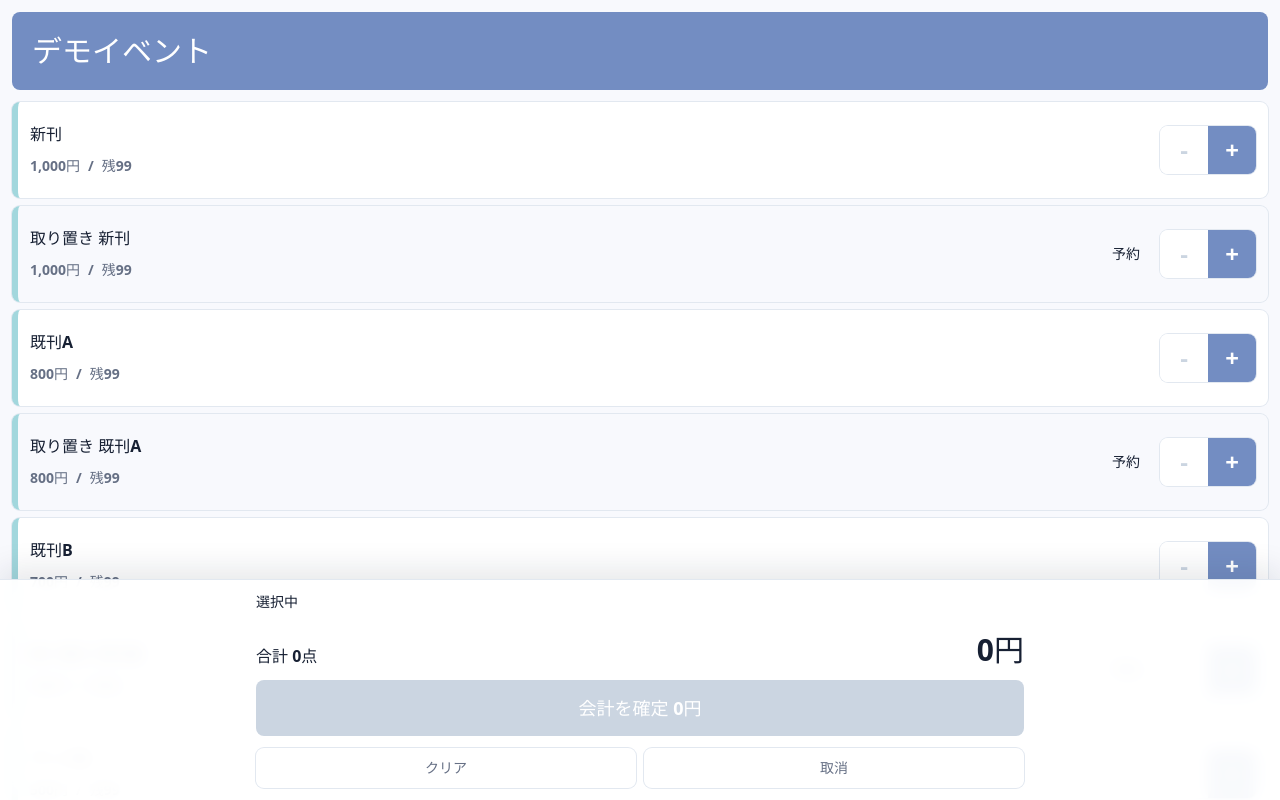
Test: CheckoutPage › shows compact 頒布物 cards and plus minus controls
What coordinates should you click on to do the following:
click the button with aria-label "新刊を追加"
I would click on:
 (46, 134)
Its box is [30,114,1152,186].
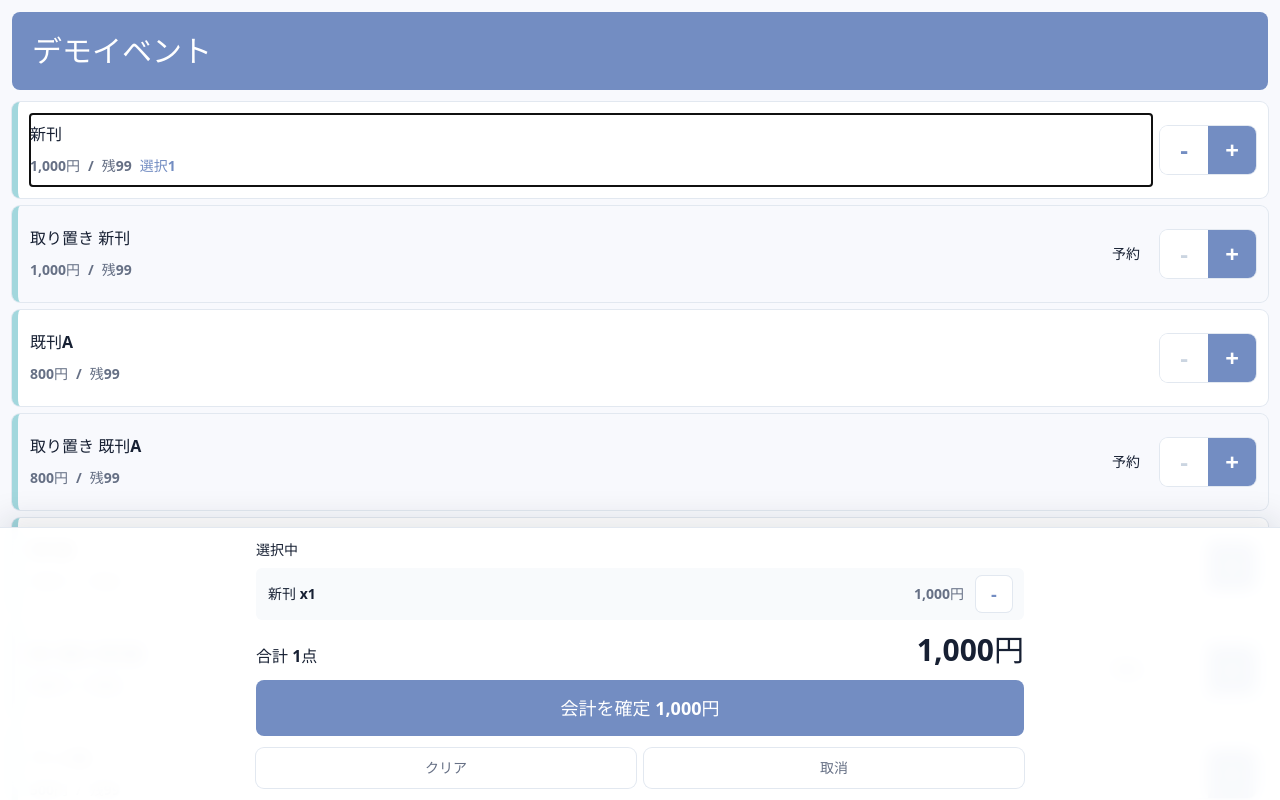
Expected: the text "新刊 x1" is shown, [268,584,316,603]
What coordinates should you click on to do the following:
click the button named "新刊を増やす"
I would click on:
 (1232, 150)
Its box is [1208,126,1256,174].
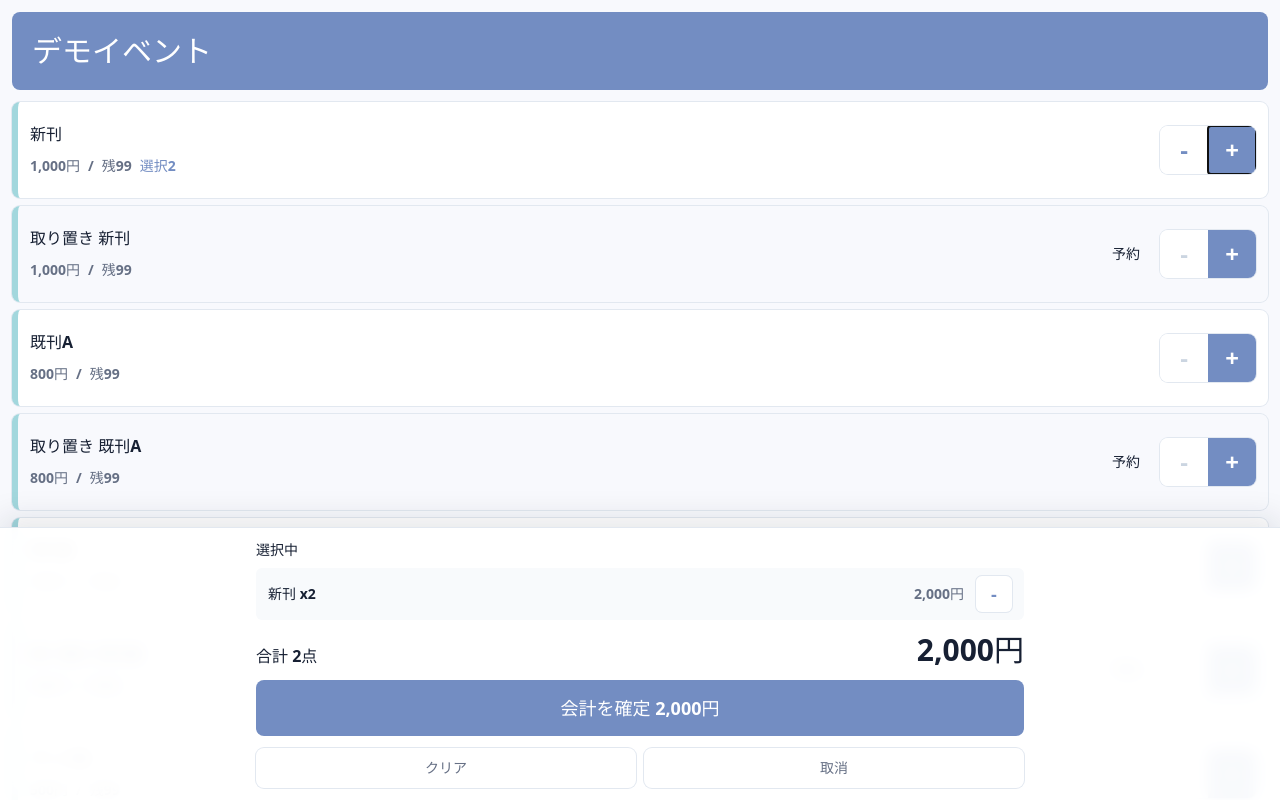
Expected: the text "新刊 x2" is shown, [268,584,316,603]
What coordinates should you click on to do the following:
click the button named "新刊を減らす"
I would click on:
 (1184, 150)
Its box is [1160,126,1208,174].
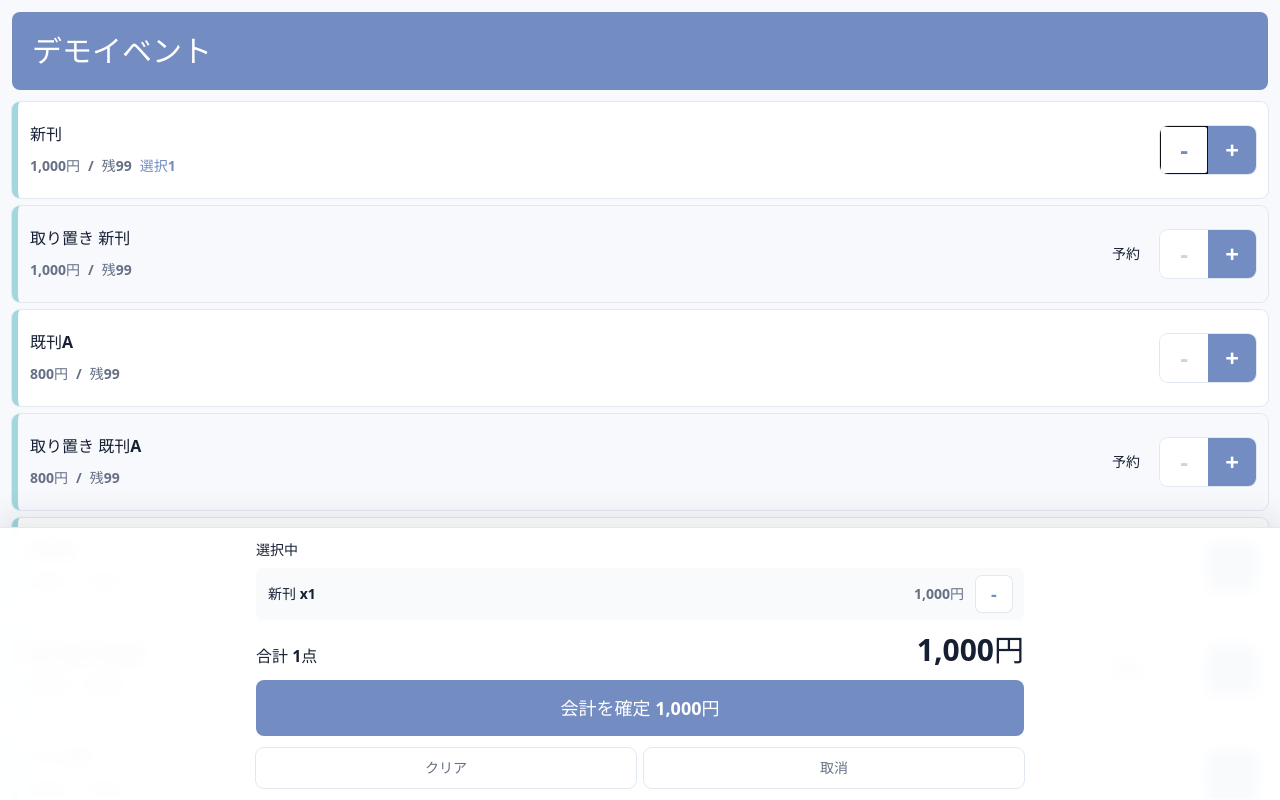
Expected: the text "新刊 x1" is shown, [268,584,316,603]
What coordinates should you click on to do the following:
click the button named "新刊を減らす"
I would click on:
 (1184, 150)
Its box is [1160,126,1208,174].
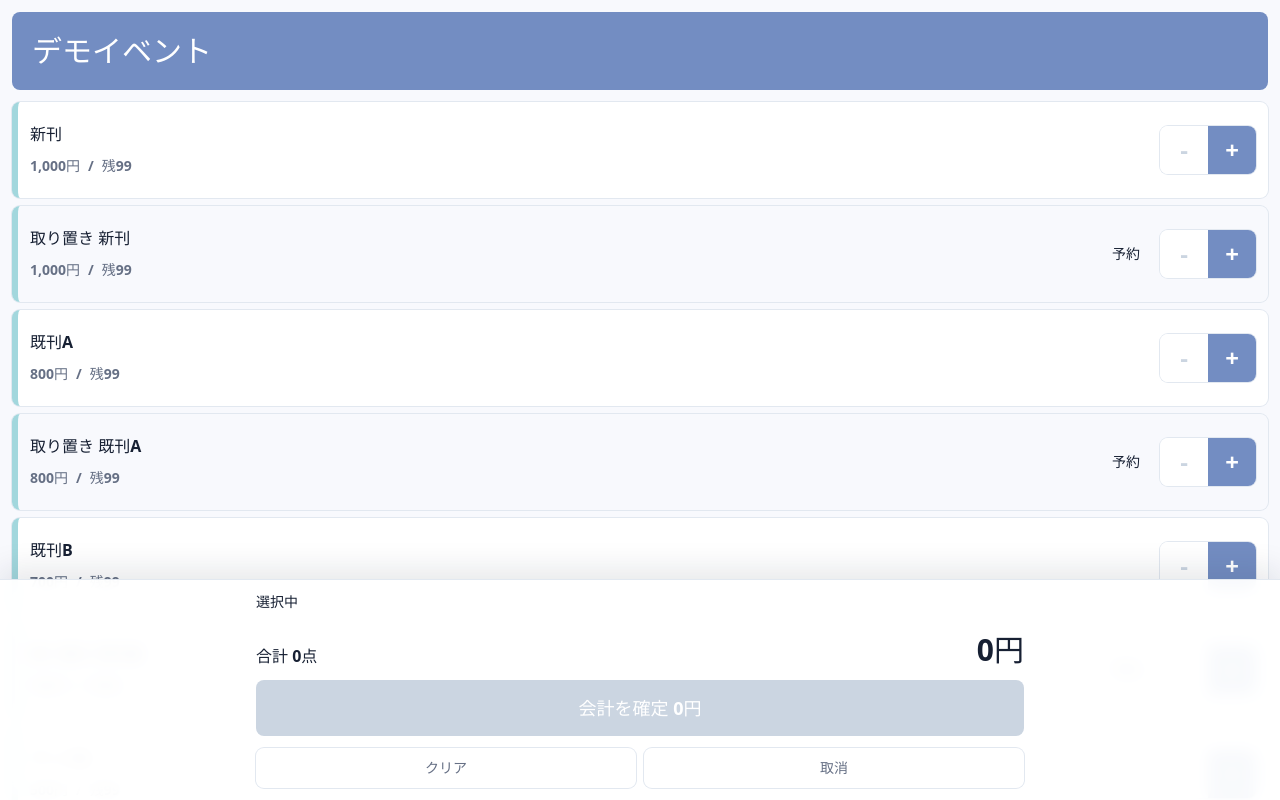
Expected: the text "新刊 x1" is gone
